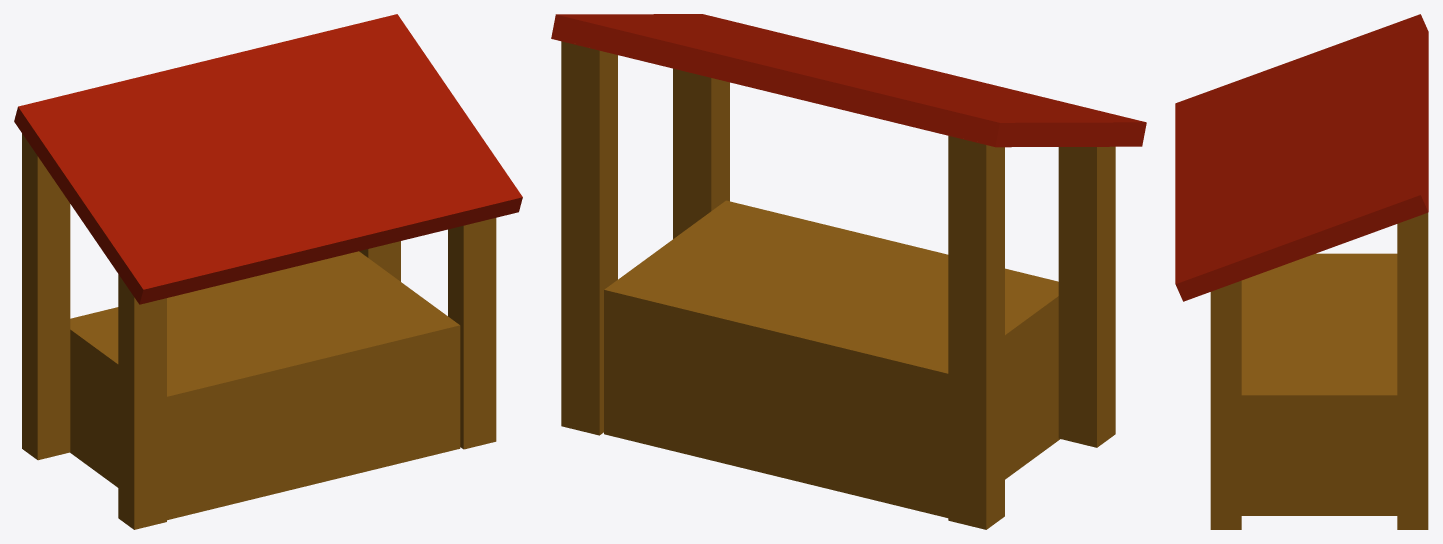
File: Prilavok.fbx
3 views of the same model, side by side, from view 1: azimuth 30°, elevation 25°; view 2: azimuth 150°, elevation 25°; view 3: azimuth 270°, elevation 25° (orthographic). The views are drawn at different scales.
Parts seen in each view (by area): view 1: Cube.001; view 2: Cube.001; view 3: Cube.001.
Part boxes in pixels (x1,y1,x2,y2): Cube.001: (14,14,522,529); Cube.001: (551,14,1146,529); Cube.001: (1175,14,1428,529).
Size of the model in its own units: 540 by 474 by 319.
